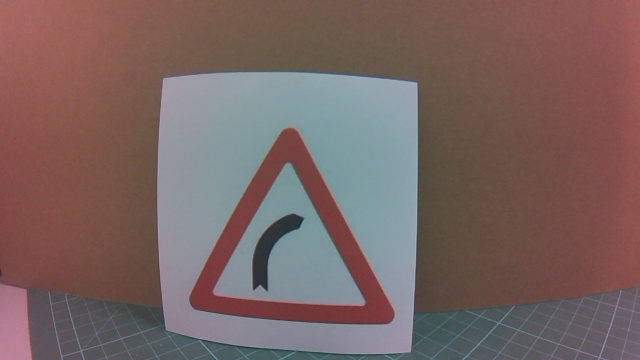right: (182, 144, 360, 320)
